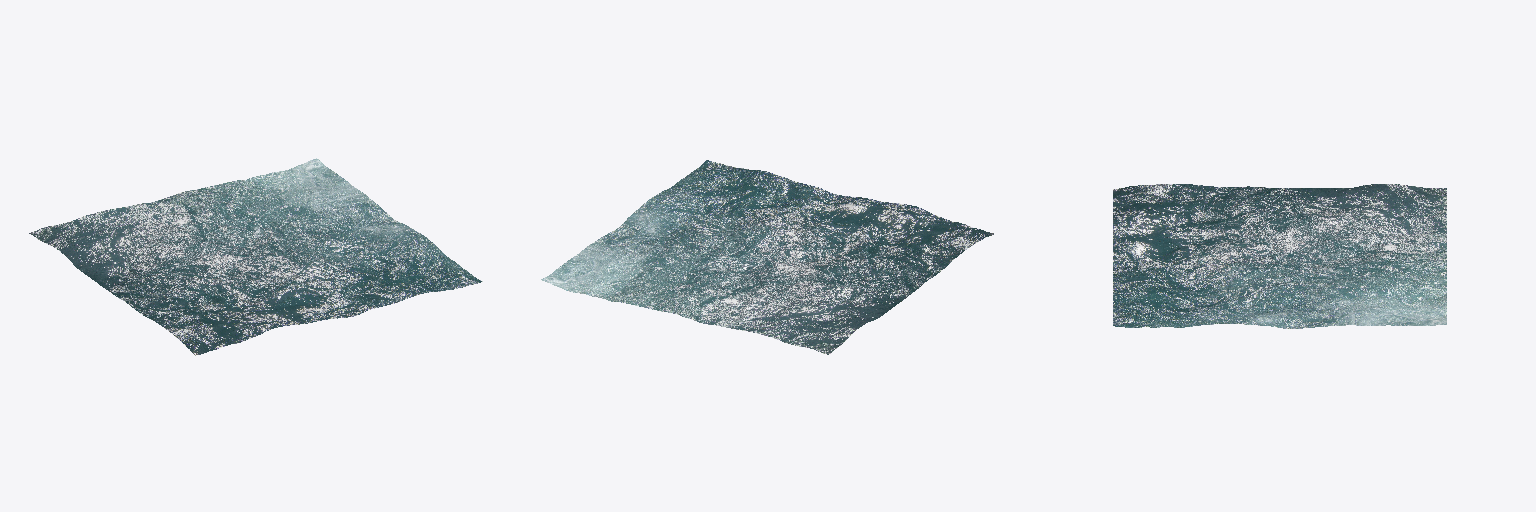
3 views of the same model, side by side, from view 1: azimuth 30°, elevation 25°; view 2: azimuth 150°, elevation 25°; view 3: azimuth 270°, elevation 25° (orthographic).
Visible parts, largest first — view 1: pPlane1; view 2: pPlane1; view 3: pPlane1.
Part boxes in pixels (left/top/right/bottom): pPlane1: left=29, top=158, right=482, bottom=355; pPlane1: left=541, top=160, right=993, bottom=354; pPlane1: left=1113, top=184, right=1446, bottom=328.
Bounding box in the file's own units: 778 × 24.88 × 778.
Materials: 1 (1 with a texture image).